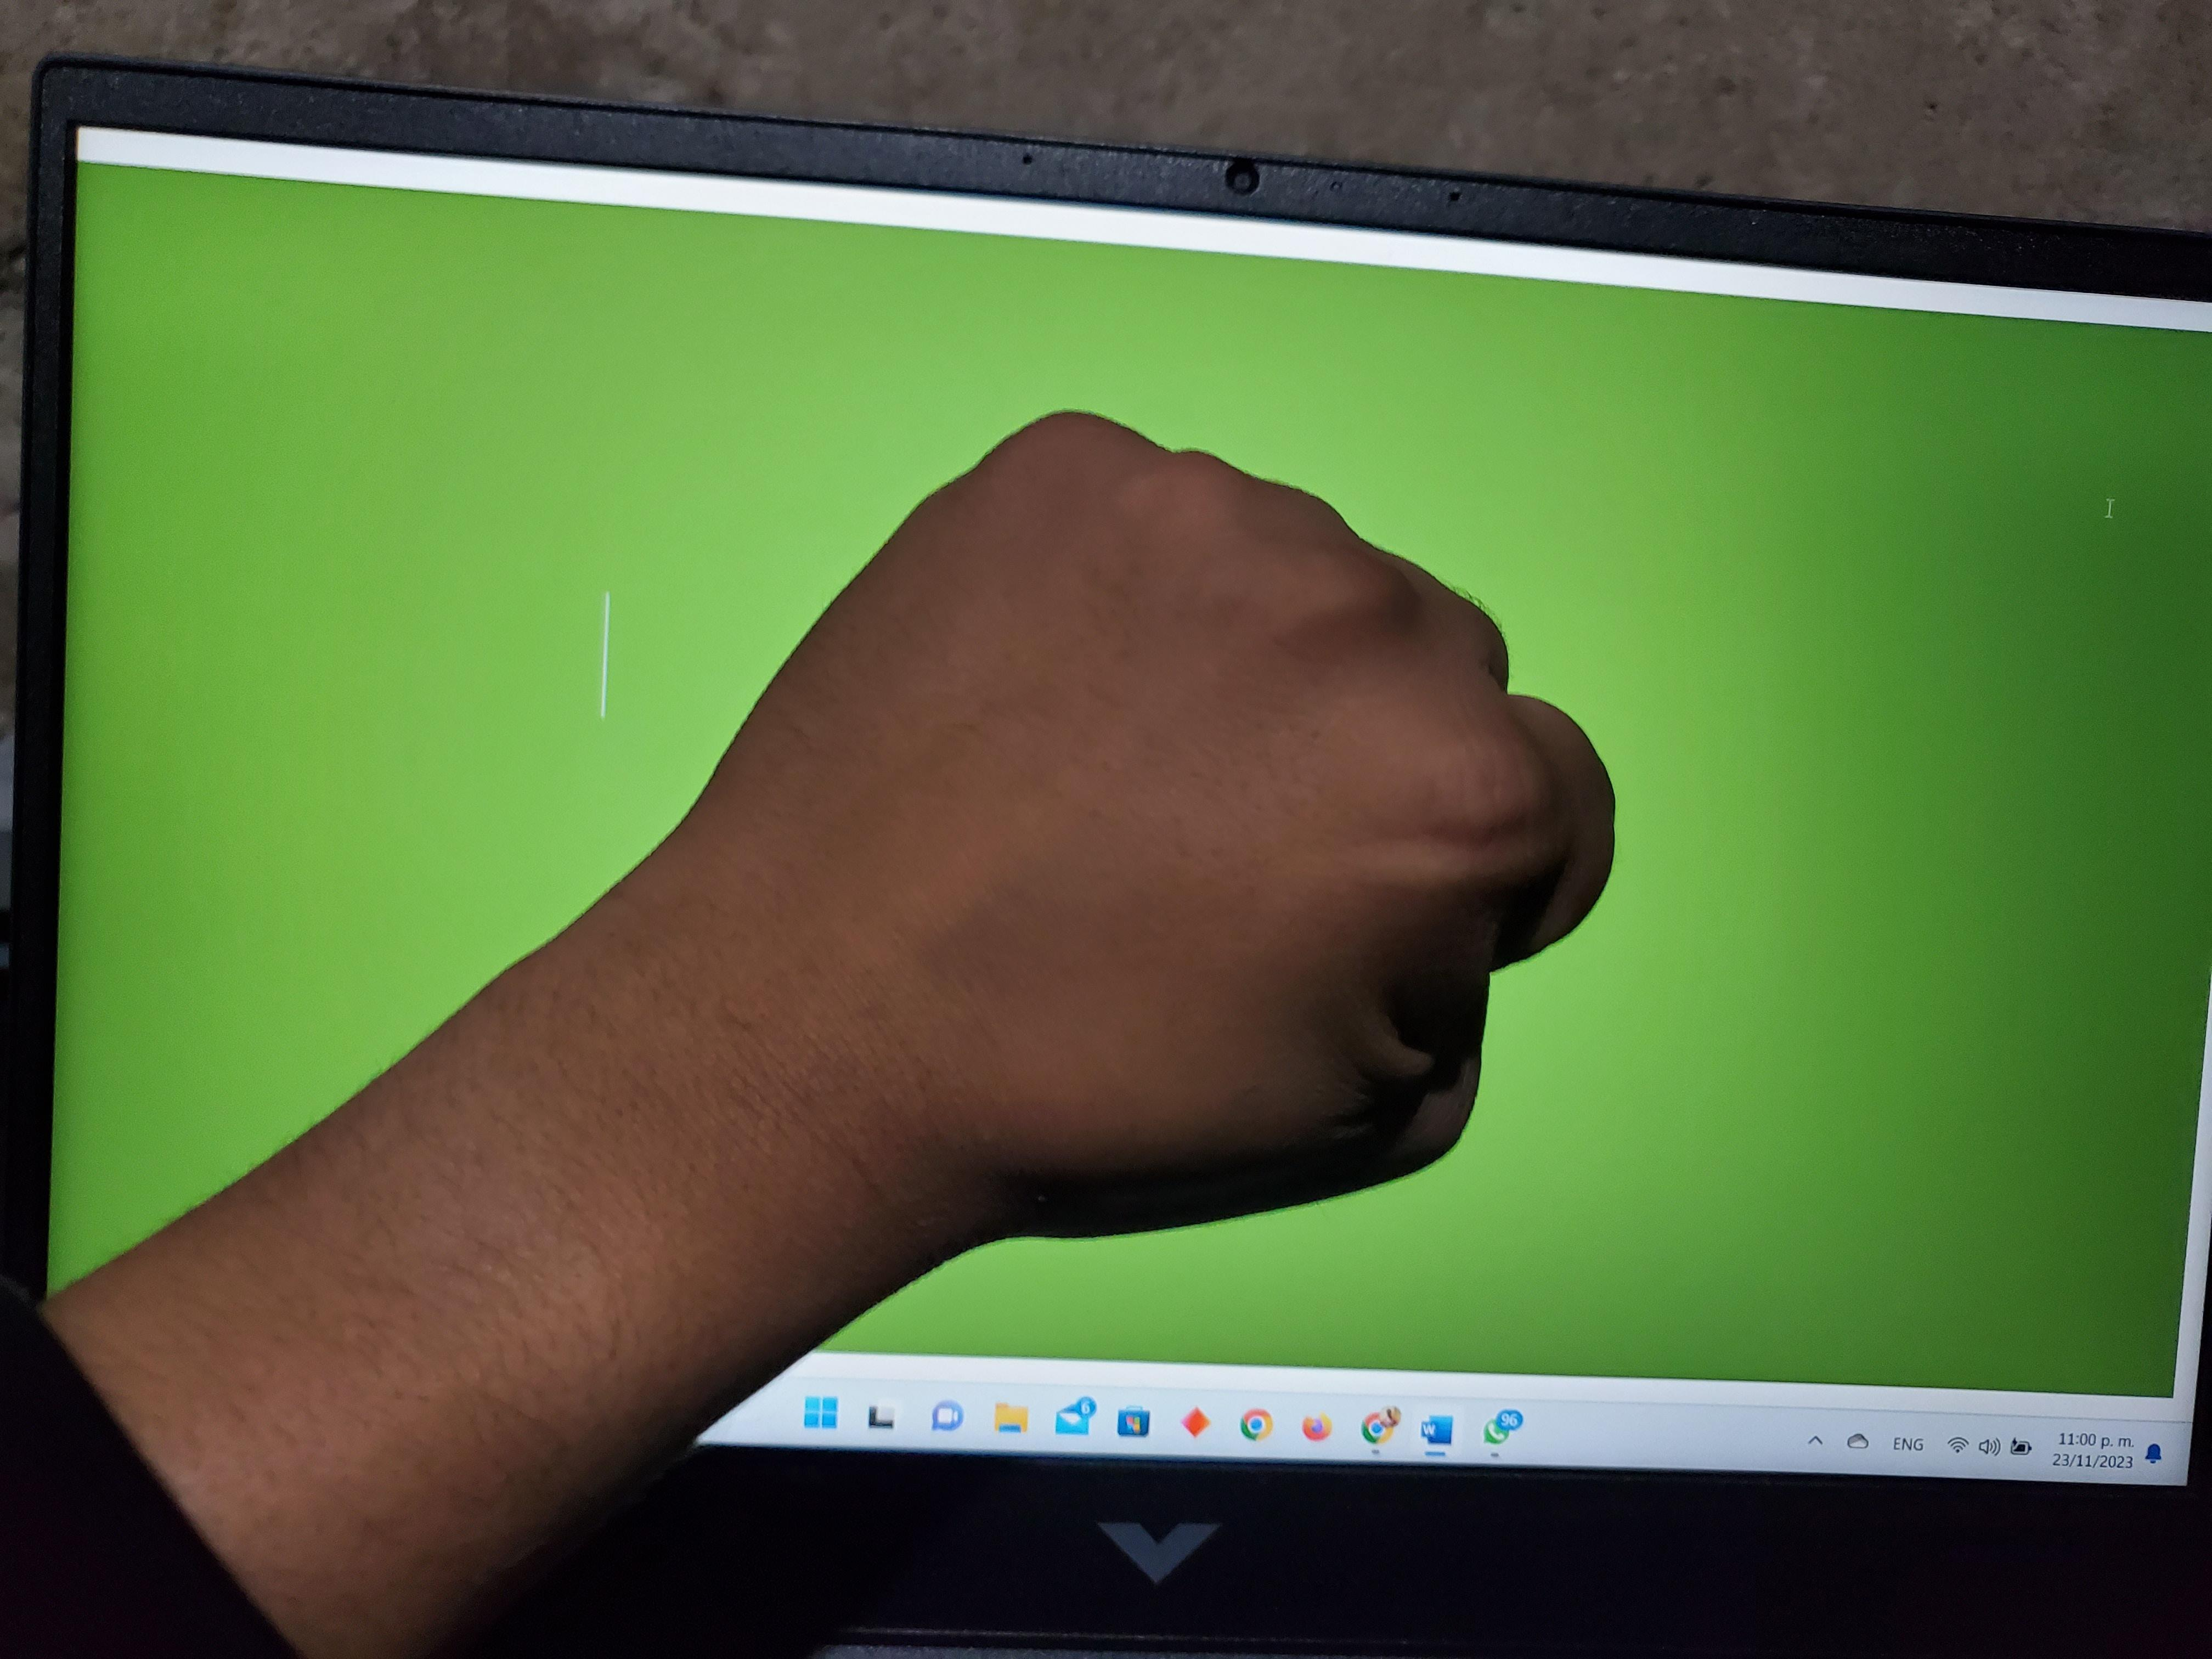Stone: (402, 265, 2055, 1387)
